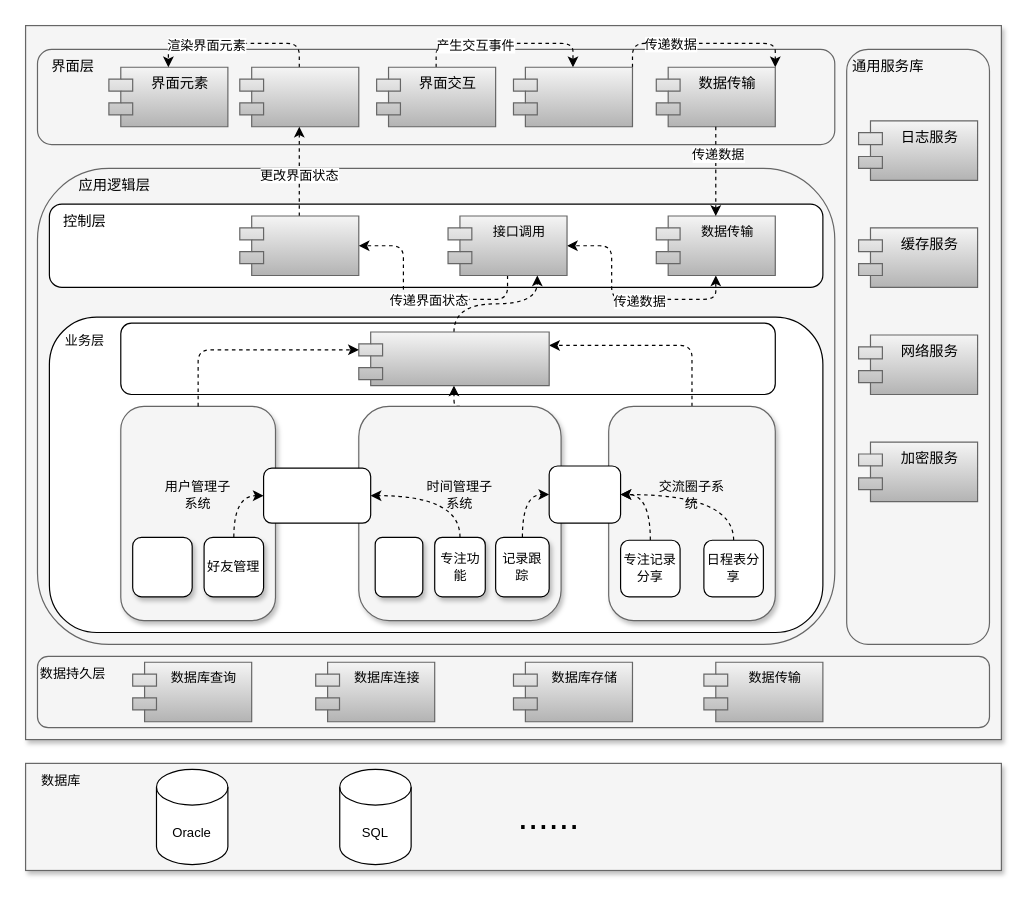
This 1029x900 diagram has some shape labels left out. Here are the shapes that lost their labels. From the top down, the centre of each, then its label:
At pixel 299 96: "界面状态".
At pixel 572 96: "数据处理".
At pixel 299 245: "界面状态控制".
At pixel 453 358: "接口实现".
At pixel 316 495: "线上自习室".
At pixel 584 494: "数据可视化".
At pixel 163 568: "用户认证".
At pixel 399 568: "日程管理".
